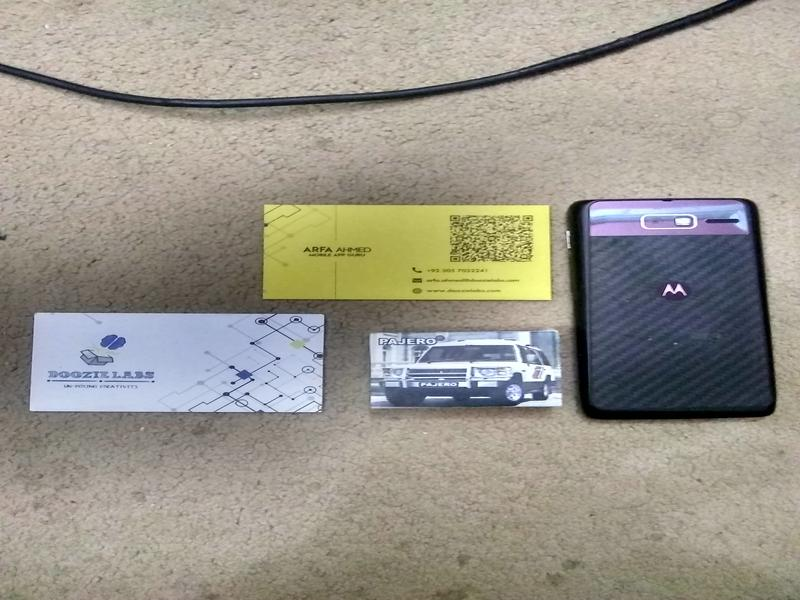back: (34, 314, 326, 410)
front: (263, 204, 552, 302)
moto: (573, 202, 777, 418)
pajero: (371, 333, 561, 406)
